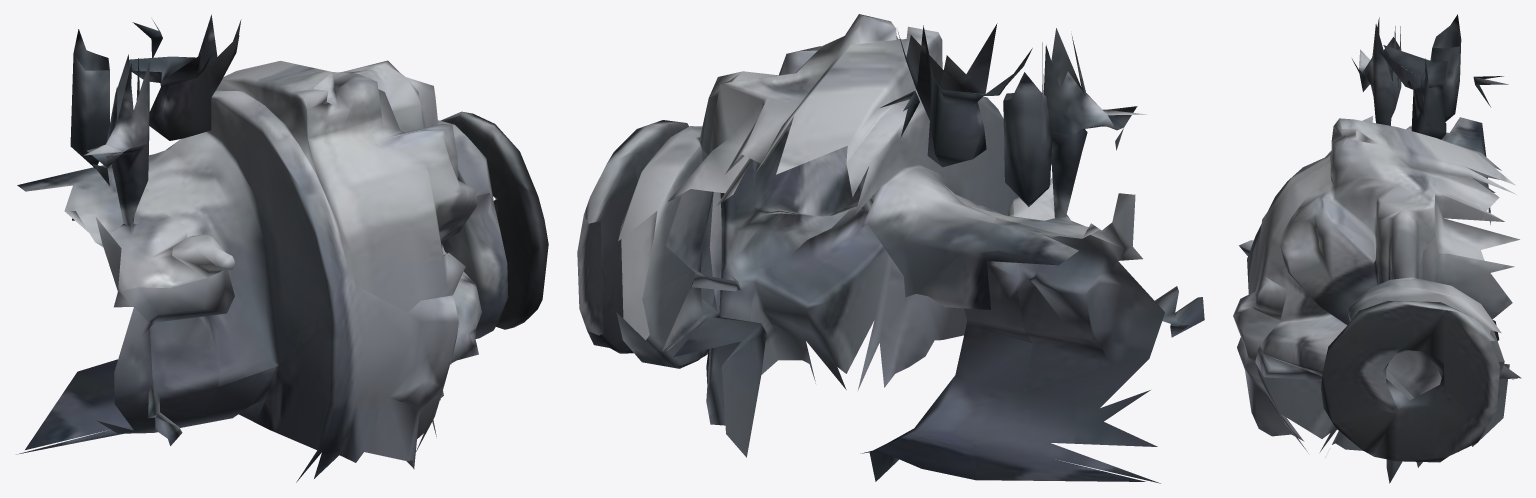
Rendered from alternator_40.glb.
3 renders of one model, left to right at view 1: azimuth 30°, elevation 25°; view 2: azimuth 150°, elevation 25°; view 3: azimuth 270°, elevation 25°, orthographic. The views are drawn at different scales.
Visible parts, largest first — view 1: alternator_40; view 2: alternator_40; view 3: alternator_40.
Boxes of the visible parts, box(x1,y1,x2,y2) form: alternator_40: box(16, 14, 548, 482); alternator_40: box(577, 14, 1204, 483); alternator_40: box(1233, 14, 1521, 483).
Size of the model in its own units: 0.2229 by 0.1872 by 0.1413.
Materials: 1 (1 with a texture image).
